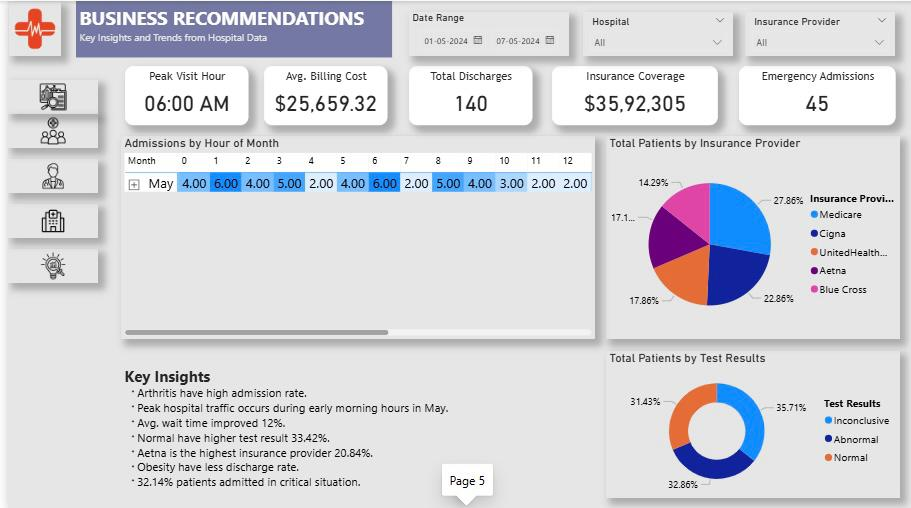

What the dashboard file says about the page in this screenshot:
{"tool":"powerbi","page":{"name":"Page 5","canvas":[1280,720],"ordinal":4},"visuals":[{"type":"shape","box":[0,80,160,640],"z":0},{"type":"image","box":[1.7,1.7,73.9,75.6],"z":1000},{"type":"image","box":[0,112,128,48],"z":7000},{"type":"image","box":[0,160,128,48],"z":8000},{"type":"image","box":[0,224,128,48],"z":9000},{"type":"image","box":[0,288,128,48],"z":10000},{"type":"image","box":[0,352,128,48],"z":11000},{"type":"card","title":"Insurance Coverage","fields":{"Values":["HospitalData.Insurance Coverage"]},"box":[771,92.4,235.2,84],"z":12000},{"type":"card","title":"Peak Visit Hour","fields":{"Values":["HospitalData.Peak Visit Hour"]},"box":[166.3,92.4,174.7,84],"z":13000},{"type":"card","title":"Avg. Billing Cost","fields":{"Values":["HospitalData.Avg. Billing"]},"box":[362.8,92.4,174.7,84],"z":14000},{"type":"card","title":"Total Discharges ","fields":{"Values":["HospitalData.Total Discharge"]},"box":[567.8,92.4,174.7,84],"z":15000},{"type":"card","title":"Emergency Admissions ","fields":{"Values":["HospitalData.Emergency Admissions"]},"box":[1036.4,92.4,221.7,84],"z":16000},{"type":"pivotTable","title":"Admissions by Hour of Month","fields":{"Rows":["HospitalData.Admission Date.Variation.Date Hierarchy.Month","HospitalData.Admission Date.Variation.Date Hierarchy.Day"],"Columns":["HospitalData.Visit Hour "],"Values":["select","HospitalData.Total Patients"]},"box":[160,192,672,288],"z":17000},{"type":"pieChart","title":"Patients by Insurance Provider","fields":{"Category":["HospitalData.Insurance Provider"],"Y":["HospitalData.Total Patients"]},"box":[848,192,416,288],"z":18000},{"type":"slicer","title":"Date Range","fields":{"Values":["HospitalData.Admission Date"]},"box":[567.8,15.1,226.8,62.2],"z":19000},{"type":"slicer","fields":{"Values":["HospitalData.Hospital"]},"box":[814.7,15.1,213.3,62.2],"z":20000},{"type":"slicer","fields":{"Values":["HospitalData.Insurance Provider"]},"box":[1044.8,15.1,213.3,62.2],"z":21000},{"type":"donutChart","title":"Patients by Test Results","fields":{"Y":["HospitalData.Total Patients"],"Category":["HospitalData.Test Results"]},"box":[848,496,416,208],"z":22000},{"type":"textbox","box":[96,0,448,80],"z":23000},{"type":"textbox","box":[160,512,528,192],"z":24000}]}

Visuals, with their boxes in screenshot pixels (x1, y1, x2, y2), scaled from the page's 1280x720 canvas onto the 911x508 screenshot:
shape: 0:56:114:507
image: 1:1:54:55
image: 0:79:91:113
image: 0:113:91:147
image: 0:158:91:192
image: 0:203:91:237
image: 0:248:91:282
"Insurance Coverage" card: 549:65:716:124
"Peak Visit Hour" card: 118:65:243:124
"Avg. Billing Cost" card: 258:65:383:124
"Total Discharges " card: 404:65:528:124
"Emergency Admissions " card: 738:65:895:124
"Admissions by Hour of Month" pivotTable: 114:135:592:339
"Patients by Insurance Provider" pieChart: 604:135:900:339
"Date Range" slicer: 404:11:566:55
slicer - HospitalData.Hospital: 580:11:732:55
slicer - HospitalData.Insurance Provider: 744:11:895:55
"Patients by Test Results" donutChart: 604:350:900:497
textbox: 68:0:387:56
textbox: 114:361:490:497
